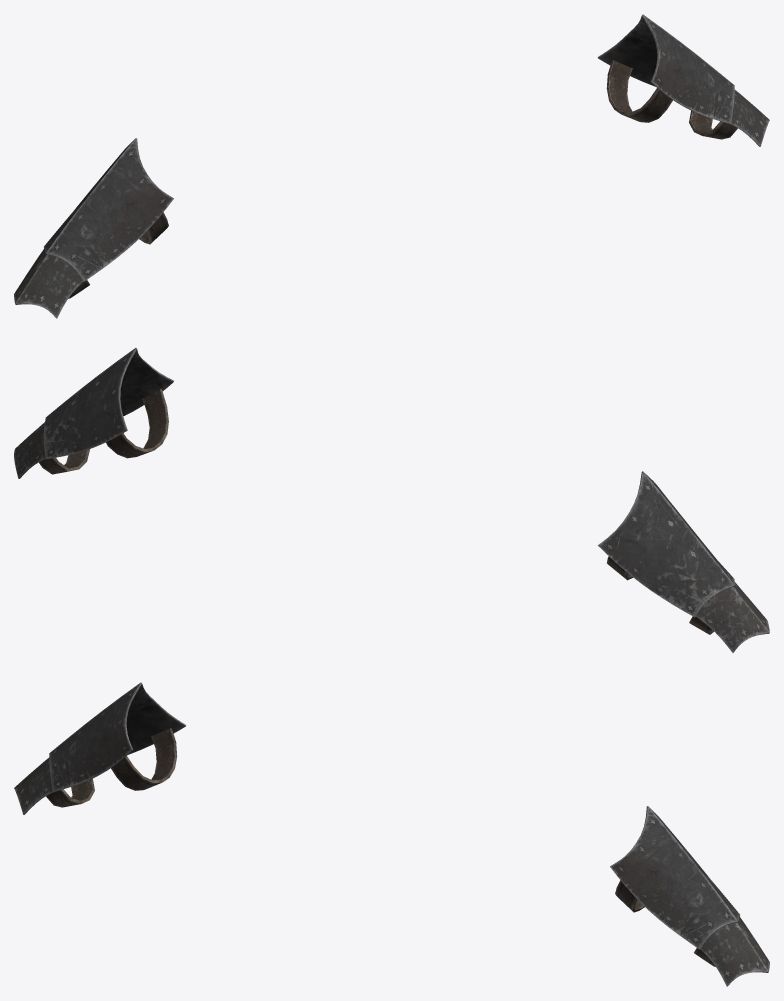
File: sk_uruk_mordor_bracer_medium_d.fbx
3 renders of one model, top to bottom at view 1: azimuth 30°, elevation 25°; view 2: azimuth 150°, elevation 25°; view 3: azimuth 330°, elevation 25°, orthographic.
Parts seen in each view (by area): view 1: sk_uruk_mordor_bracer_medium_d.1, sk_uruk_mordor_bracer_medium_d.0; view 2: sk_uruk_mordor_bracer_medium_d.1, sk_uruk_mordor_bracer_medium_d.0; view 3: sk_uruk_mordor_bracer_medium_d.1, sk_uruk_mordor_bracer_medium_d.0.
Boxes of the visible parts, <box> form: sk_uruk_mordor_bracer_medium_d.1: <box>14,14,769,318</box>; sk_uruk_mordor_bracer_medium_d.0: <box>68,60,737,298</box>; sk_uruk_mordor_bracer_medium_d.1: <box>14,348,769,652</box>; sk_uruk_mordor_bracer_medium_d.0: <box>39,388,713,634</box>; sk_uruk_mordor_bracer_medium_d.1: <box>14,682,769,986</box>; sk_uruk_mordor_bracer_medium_d.0: <box>46,728,715,966</box>.
Size of the model in its own units: 1.43 by 0.1676 by 0.2672.
2 materials, 2 textured.
